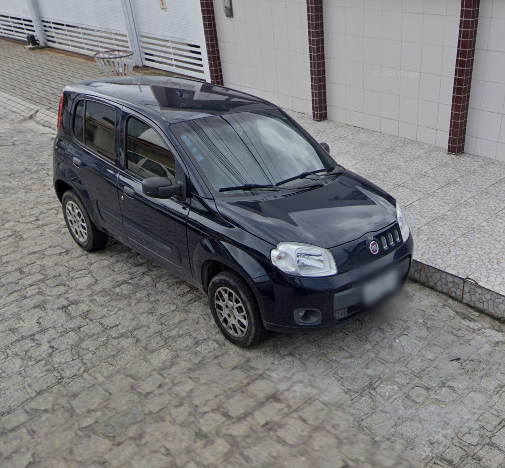car: (50, 73, 416, 352)
